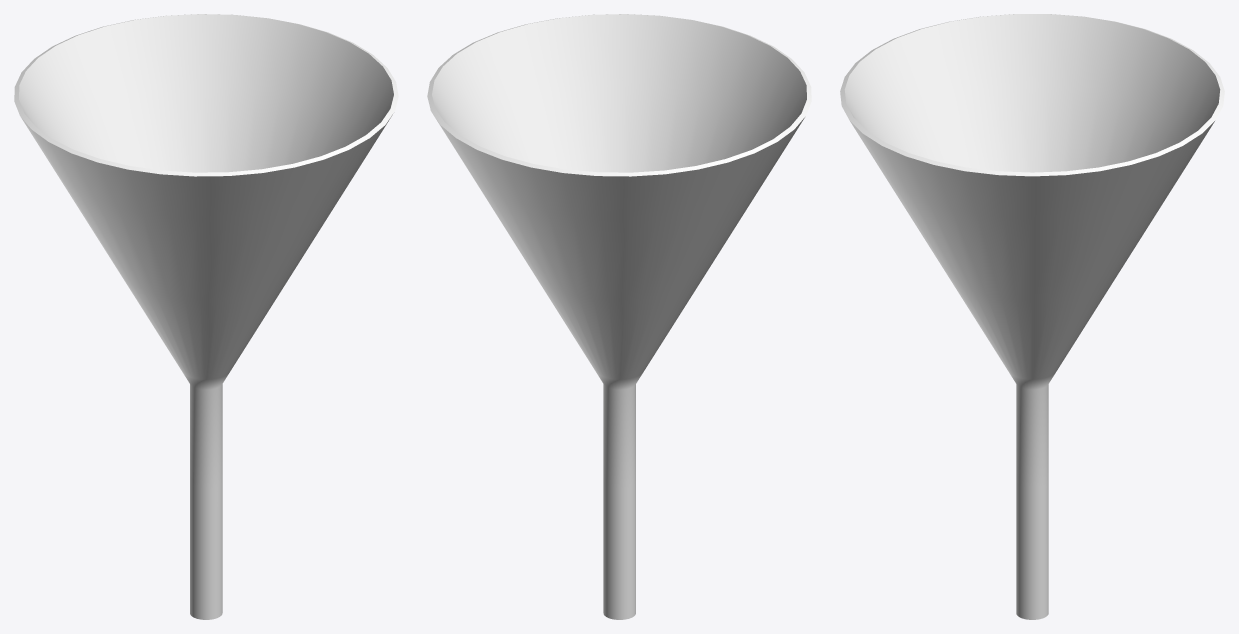
File: glass_funnel.fbx
3 renders of one model, left to right at view 1: azimuth 30°, elevation 25°; view 2: azimuth 150°, elevation 25°; view 3: azimuth 270°, elevation 25°, orthographic.
Visible parts, largest first — view 1: glass_funnel1; view 2: glass_funnel1; view 3: glass_funnel1.
Boxes of the visible parts, x1,y1,x2,y2 form: glass_funnel1: (14,14,398,619); glass_funnel1: (427,14,811,619); glass_funnel1: (840,14,1224,619).
Size of the model in its own units: 11.1 by 16.56 by 11.11.
